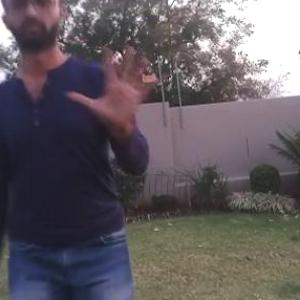follow_hand: (64, 40, 164, 130)
